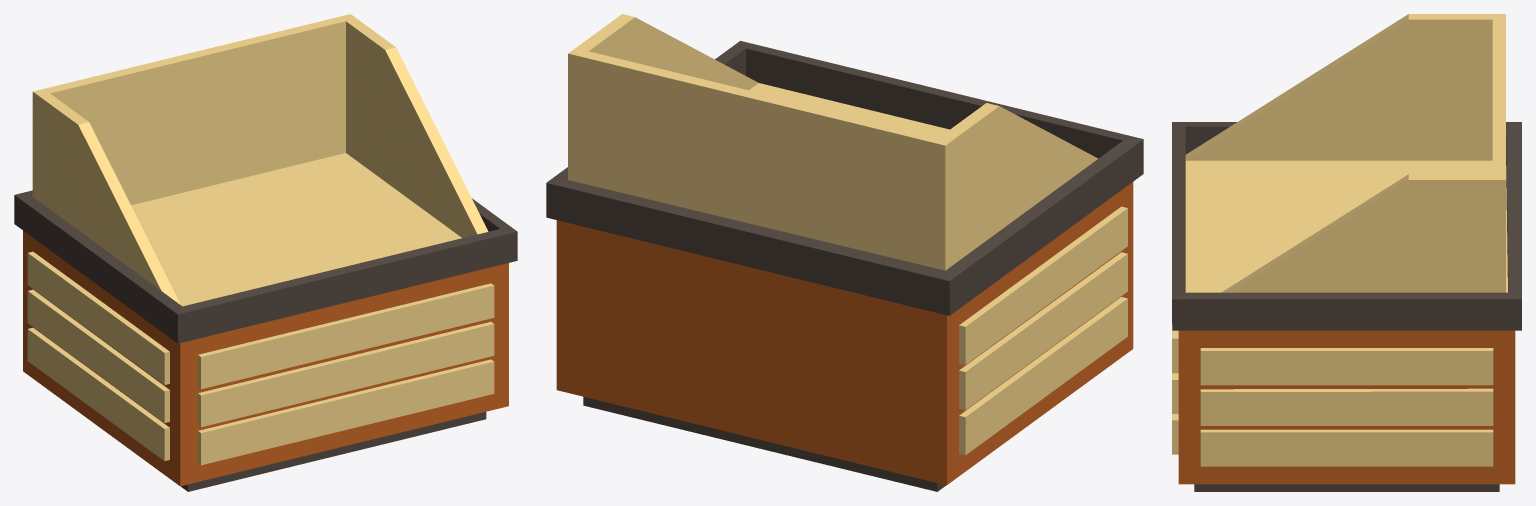
Rendered from SM_ShelfA_1.fbx.
3 renders of one model, left to right at view 1: azimuth 30°, elevation 25°; view 2: azimuth 150°, elevation 25°; view 3: azimuth 270°, elevation 25°, orthographic. The views are drawn at different scales.
Visible parts, largest first — view 1: SM_ShelfA_1; view 2: SM_ShelfA_1; view 3: SM_ShelfA_1.
Boxes of the visible parts, left/top/right/bottom form: SM_ShelfA_1: left=14, top=14, right=517, bottom=491; SM_ShelfA_1: left=546, top=14, right=1143, bottom=491; SM_ShelfA_1: left=1172, top=14, right=1521, bottom=491.
Bounding box in the file's own units: 120 × 100 × 100.
